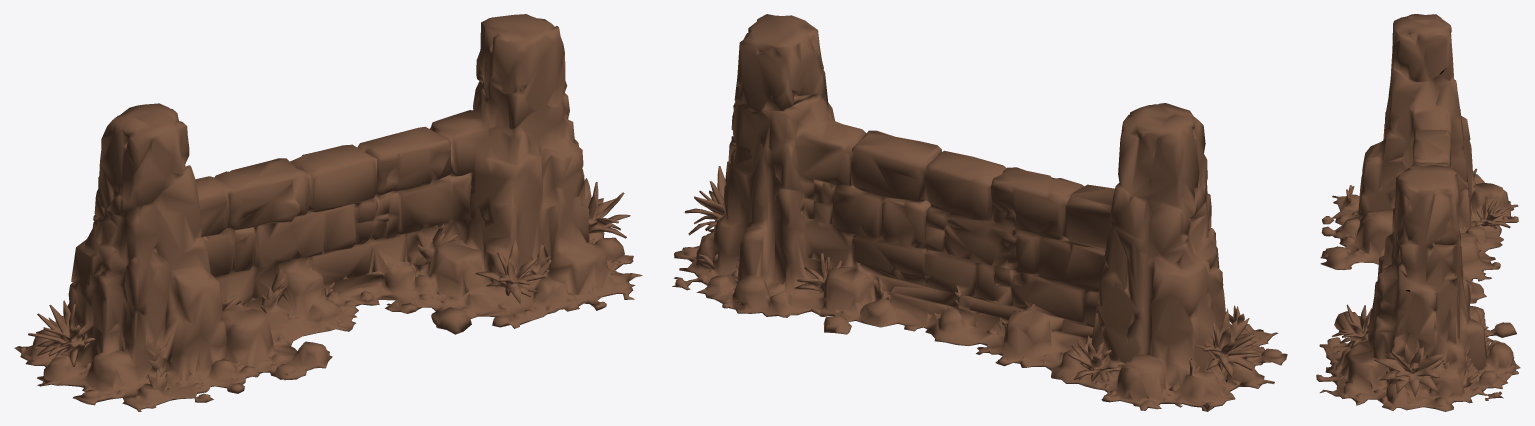
Rendered from muro_de_ruinas_de_piedra.glb.
3 views of the same model, side by side, from view 1: azimuth 30°, elevation 25°; view 2: azimuth 150°, elevation 25°; view 3: azimuth 270°, elevation 25° (orthographic). The views are drawn at different scales.
Parts seen in each view (by area): view 1: muro_de_ruinas_de_piedra; view 2: muro_de_ruinas_de_piedra; view 3: muro_de_ruinas_de_piedra.
Part boxes in pixels (left/top/right/bottom): muro_de_ruinas_de_piedra: left=14, top=14, right=642, bottom=411; muro_de_ruinas_de_piedra: left=672, top=14, right=1287, bottom=411; muro_de_ruinas_de_piedra: left=1316, top=14, right=1520, bottom=411.
Size of what is drawn, in the model's own units: 2.2 by 0.8856 by 0.8085.
1 material, 1 textured.
